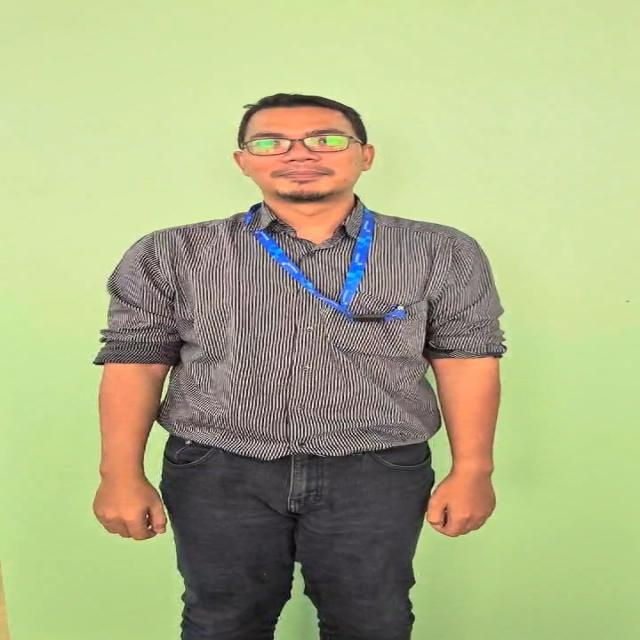goggles: (240, 136, 366, 155)
